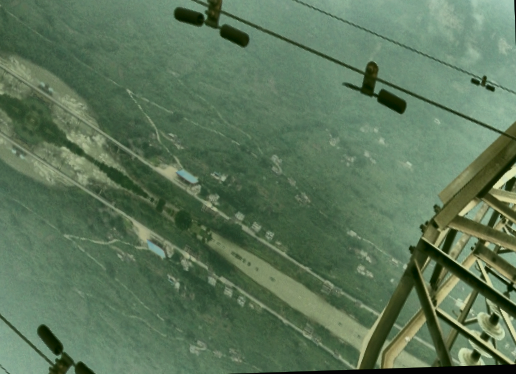damper: (172, 1, 252, 49), (468, 74, 497, 92)
damper_defect: (337, 58, 409, 116)
